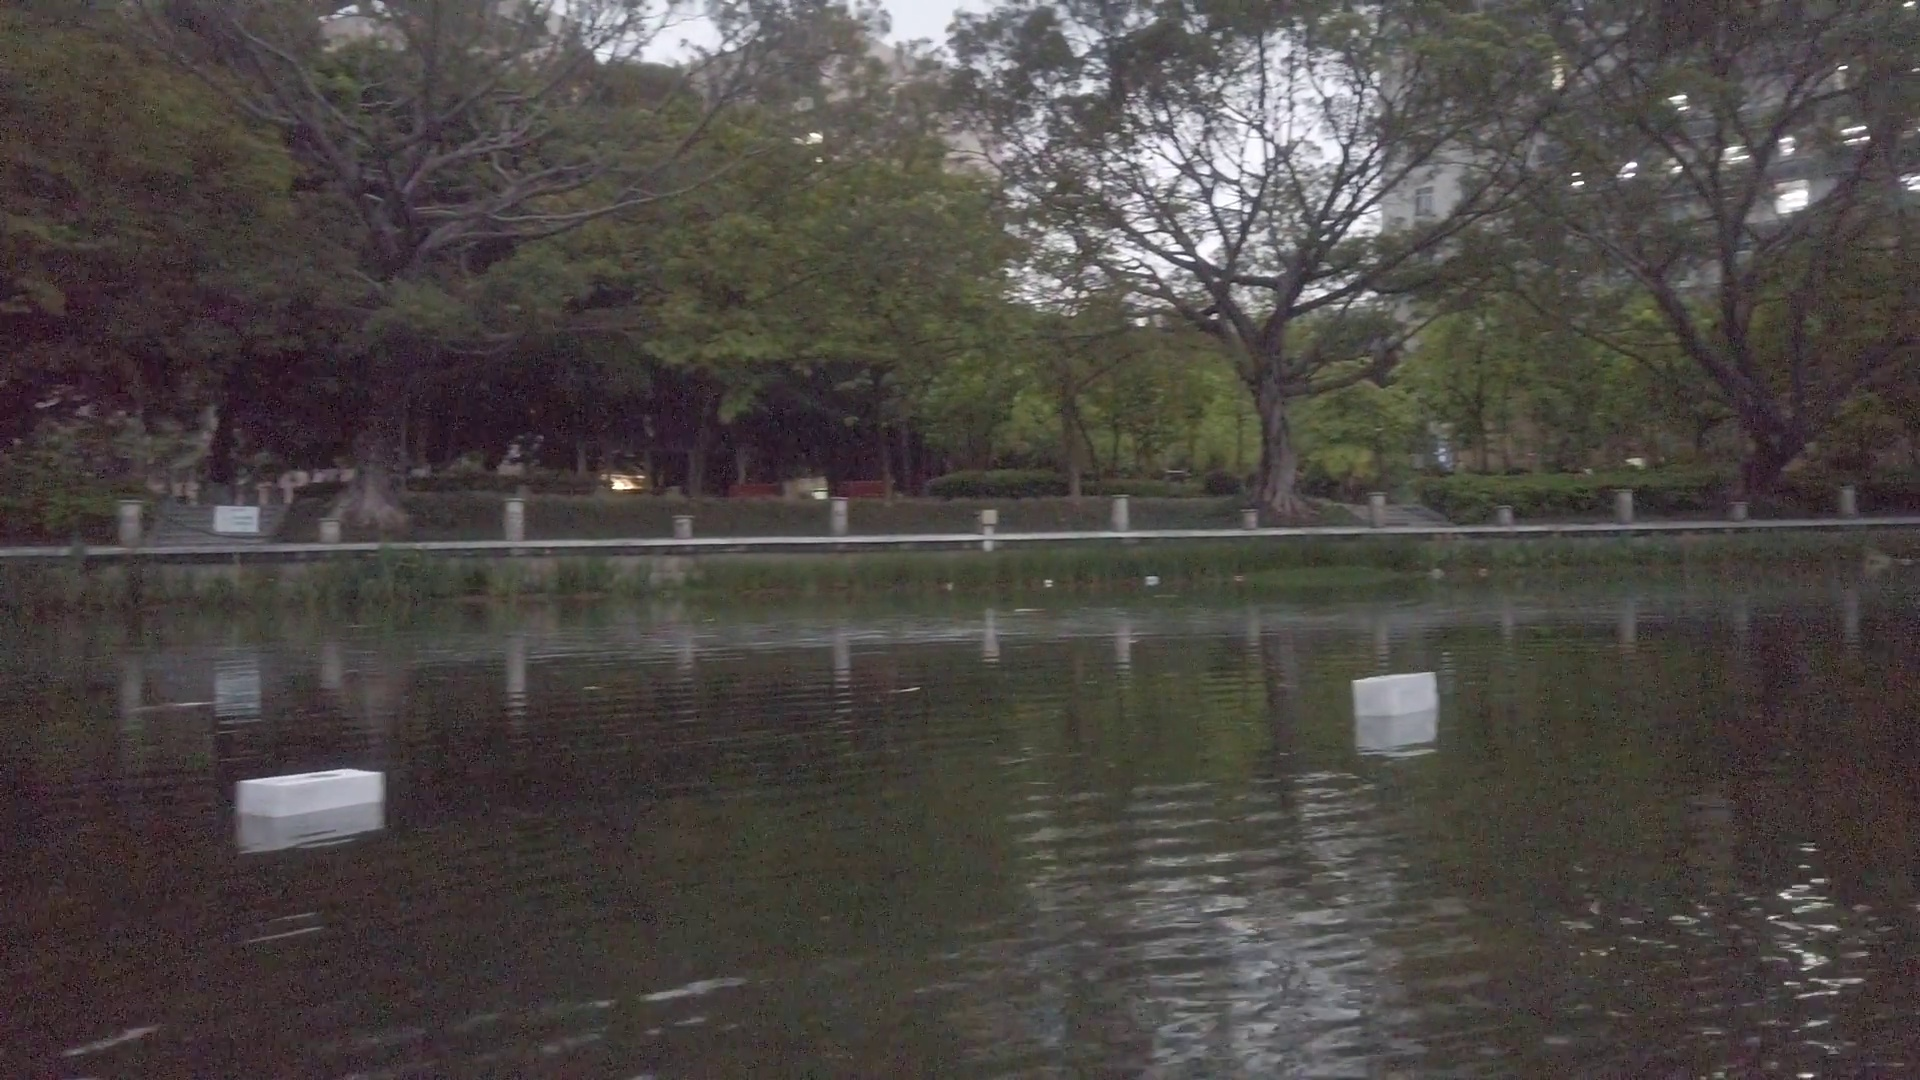carton: (235, 767, 390, 818), (1352, 674, 1440, 717)
